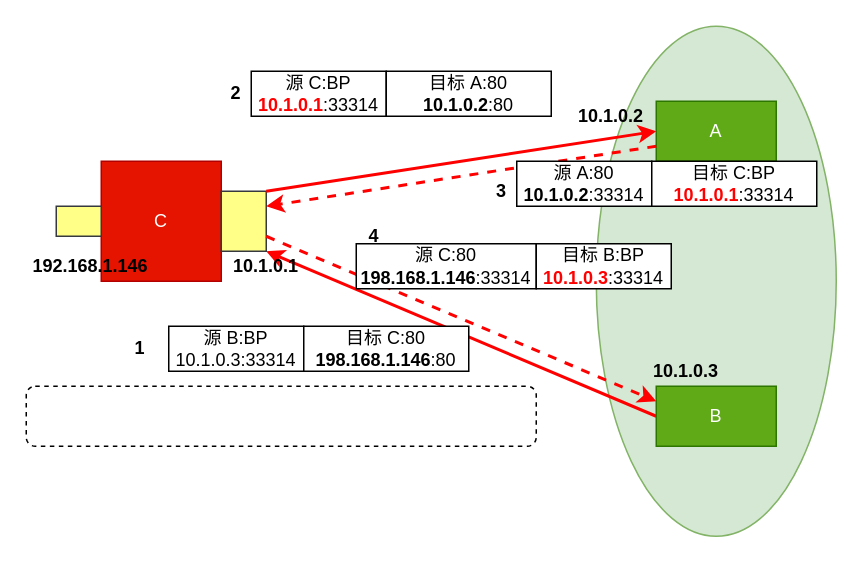
This 863x563 diagram has some shape labels left out. The centre of each missing label's shape, as x and y in pixels:
eth0: [243,220]
eth1: [78,220]
例如：curl "http://198.168.1.146:80" 虽然 B 使用的外网 IP，但是根据 B 的路由表，仍然会走 eth0: [280,415]
